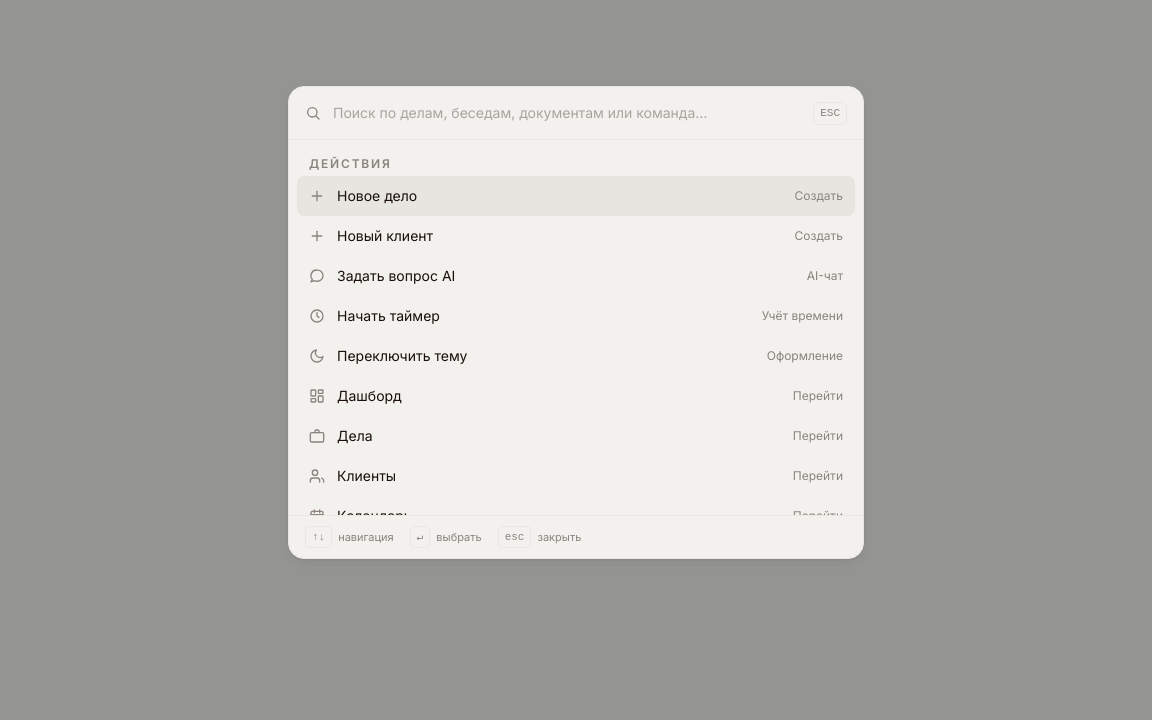
Test case: CommandPalette › shows clients and invoices groups from global search results
The width and height of the screenshot is (1152, 720).
In the field named "Поиск и команды": x=567, y=113 [333,87,801,139], type "иванов"
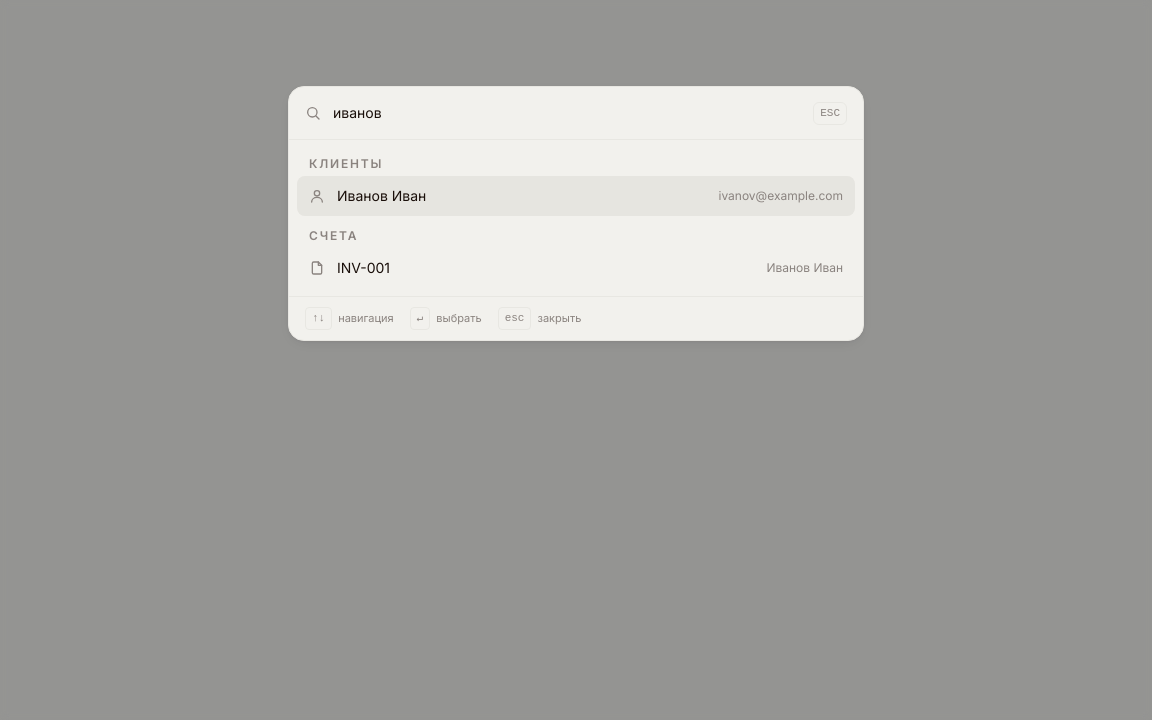
Expected: the text "Счета" is shown, [309,228,358,243]
Expected: the text "Иванов Иван" below "Клиенты" is shown, [337,187,426,204]
Expected: the text "INV-001" is shown, [337,259,390,276]
